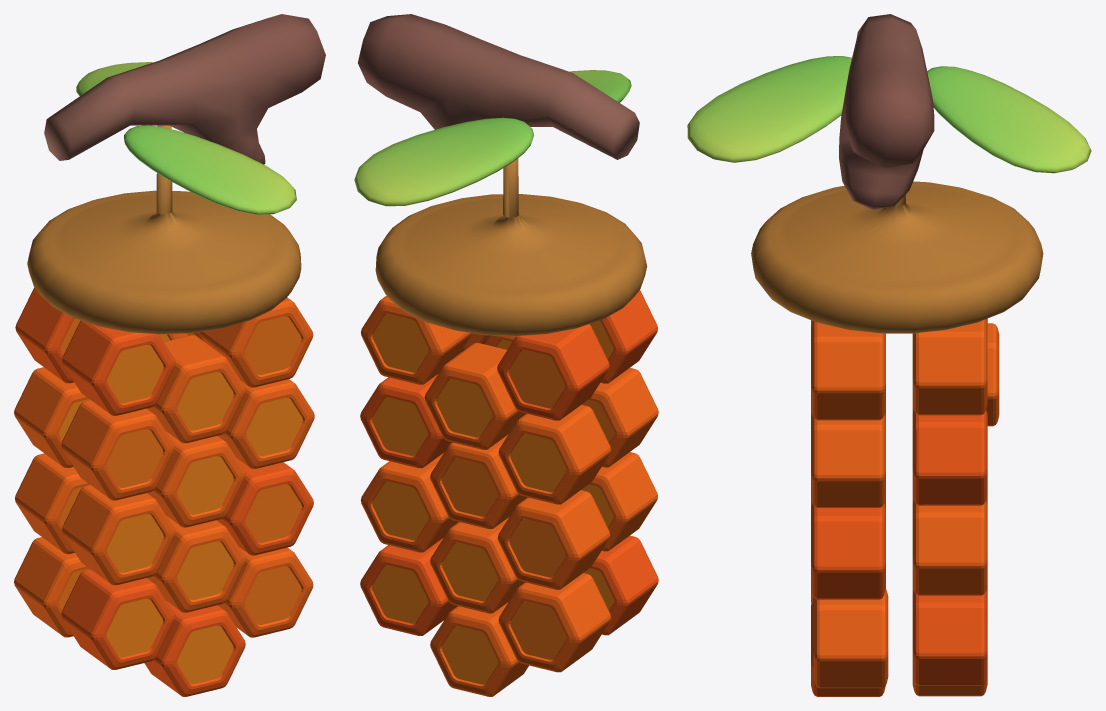
File: Lv_126_Honey.fbx
The picture shows the model from 3 angles, left to right: view 1: azimuth 30°, elevation 25°; view 2: azimuth 150°, elevation 25°; view 3: azimuth 270°, elevation 25°; orthographic projection. The views are drawn at different scales.
Parts seen in each view (by area): view 1: cube 24, Cube.008, Cube.002, cube 4, cube 10, cube 11, cube 5, cube 3, cube 6, cube 9, cube, cube 7 (+8 smaller); view 2: cube 24, Cube.008, Cube.003, cube 19, cube 14, cube 20, cube 13, cube 15, cube 23, cube 22, cube 18, cube 21 (+8 smaller); view 3: cube 24, Cube.008, Cube.002, Cube.003, cube 16, cube 22, cube 23, cube 2, cube 7, cube 8, cube 17, cube 1 (+3 smaller).
Part boxes in pixels (x1=…): cube 24: x1=27, y1=125, x2=301, y2=334; Cube.008: x1=44, y1=14, x2=325, y2=164; Cube.002: x1=124, y1=125, x2=296, y2=214; cube 4: x1=61, y1=400, x2=174, y2=500; cube 10: x1=61, y1=569, x2=174, y2=669; cube 11: x1=62, y1=485, x2=175, y2=585; cube 5: x1=62, y1=320, x2=175, y2=415; cube 3: x1=147, y1=335, x2=245, y2=443; cube 6: x1=144, y1=601, x2=245, y2=696; cube 9: x1=147, y1=516, x2=245, y2=612; cube: x1=147, y1=431, x2=245, y2=527; cube 7: x1=217, y1=458, x2=313, y2=555; cube 24: x1=375, y1=158, x2=647, y2=336; Cube.008: x1=358, y1=14, x2=639, y2=159; Cube.003: x1=354, y1=117, x2=533, y2=206; cube 19: x1=497, y1=490, x2=610, y2=589; cube 14: x1=498, y1=404, x2=610, y2=504; cube 20: x1=498, y1=573, x2=610, y2=672; cube 13: x1=497, y1=324, x2=609, y2=420; cube 15: x1=424, y1=343, x2=525, y2=449; cube 23: x1=360, y1=453, x2=458, y2=552; cube 22: x1=360, y1=538, x2=457, y2=635; cube 18: x1=430, y1=602, x2=528, y2=696; cube 21: x1=430, y1=517, x2=524, y2=613; cube 24: x1=751, y1=181, x2=1043, y2=333; Cube.008: x1=839, y1=14, x2=934, y2=209; Cube.002: x1=687, y1=56, x2=851, y2=162; Cube.003: x1=927, y1=66, x2=1091, y2=173; cube 16: x1=912, y1=409, x2=987, y2=505; cube 22: x1=912, y1=590, x2=987, y2=685; cube 23: x1=912, y1=499, x2=987, y2=595; cube 2: x1=811, y1=321, x2=885, y2=420; cube 7: x1=811, y1=502, x2=885, y2=599; cube 8: x1=813, y1=589, x2=888, y2=688; cube 17: x1=912, y1=319, x2=987, y2=415; cube 1: x1=811, y1=413, x2=885, y2=507.
Bounding box in the file's own units: 5.63 × 12.35 × 6.82.
